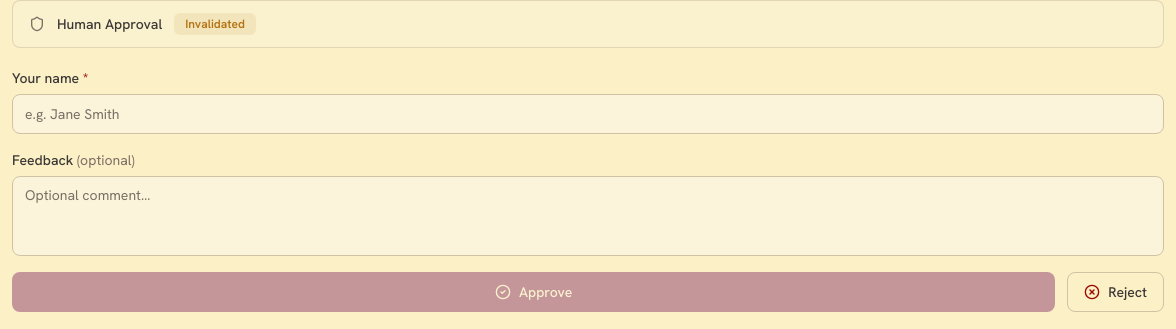
Test case: <ApprovalPanel> — gates passed › approve button is enabled when gates_passed is true (after entering approver name)
The width and height of the screenshot is (1176, 329).
Check: the button with test id "approve-btn" is disabled, box [12,272,1055,312]
// Enter approver name
In the field with test id "approver-input": (588, 114) [12,94,1164,134], type "alice"
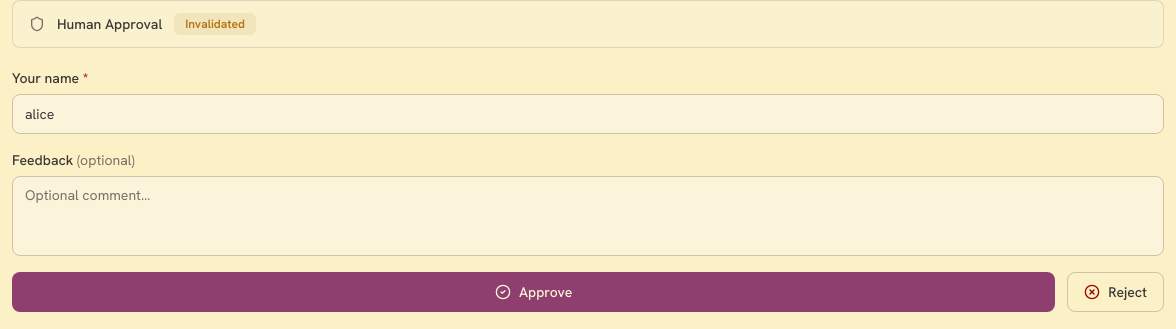
Check: the button with test id "approve-btn" is enabled, box [12,272,1055,312]
